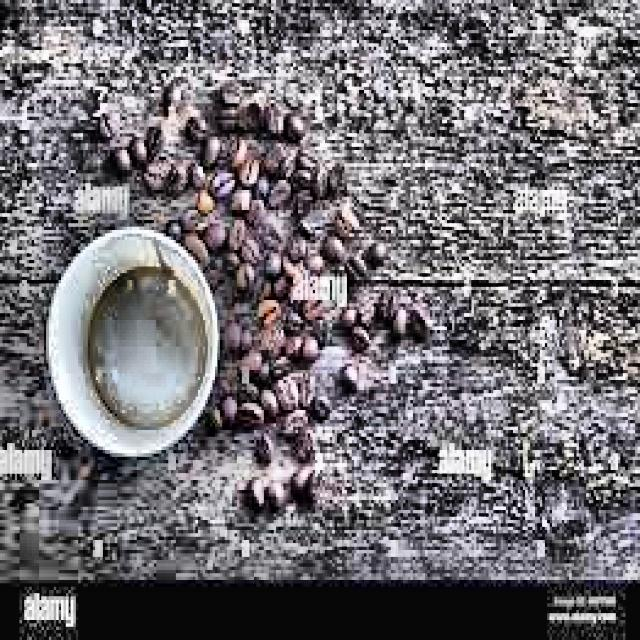Cup: (45, 226, 226, 474)
